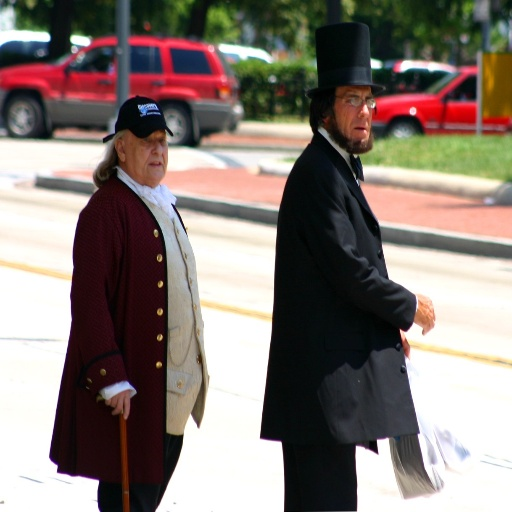hand: (406, 291, 454, 342), (102, 390, 131, 422), (399, 328, 411, 356)
